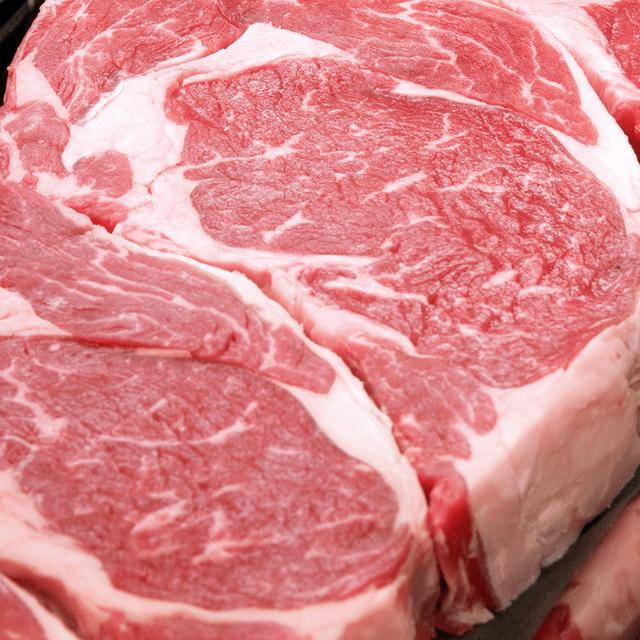beef: (0, 155, 433, 640)
